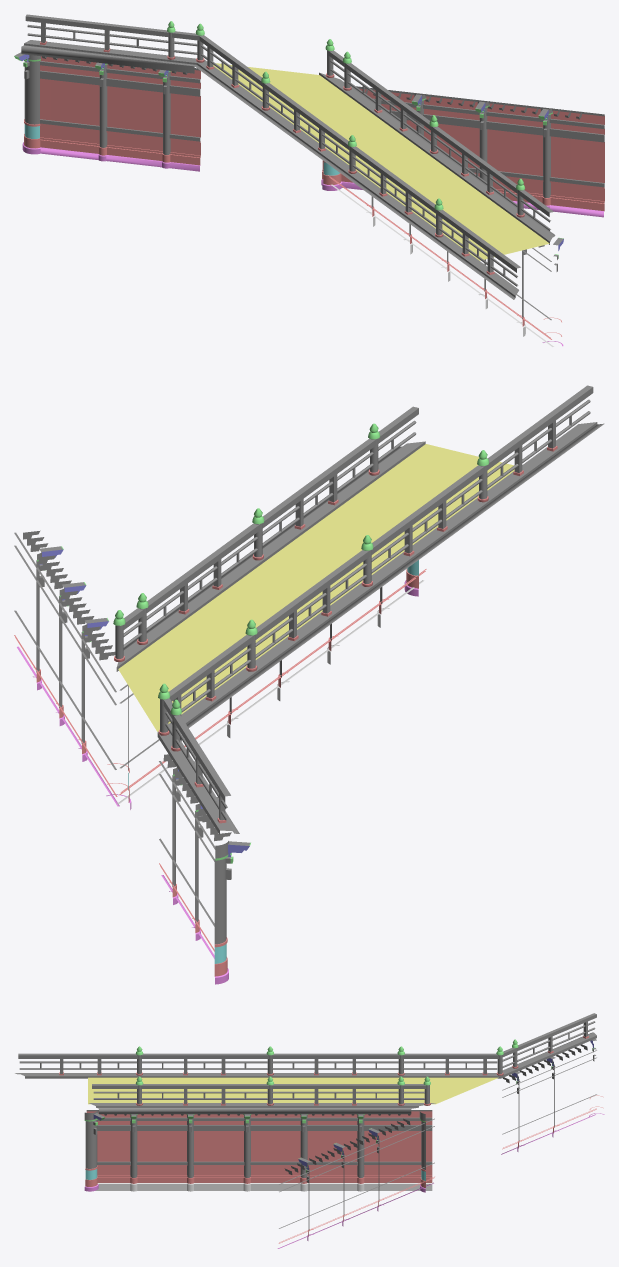
Rendered from SM_ENV_KNVLLG03_Bridge_ConnectorB.gltf.
3 views of the same model, one above another, from view 1: azimuth 30°, elevation 25°; view 2: azimuth 150°, elevation 25°; view 3: azimuth 270°, elevation 25° (orthographic). The views are drawn at different scales.
Parts seen in each view (by area): view 1: SM_ENV_KNVLLG03_Bridge_ConnectorB; view 2: SM_ENV_KNVLLG03_Bridge_ConnectorB; view 3: SM_ENV_KNVLLG03_Bridge_ConnectorB.
Part boxes in pixels (<box>): SM_ENV_KNVLLG03_Bridge_ConnectorB: <box>14,14,604,346</box>; SM_ENV_KNVLLG03_Bridge_ConnectorB: <box>14,385,604,984</box>; SM_ENV_KNVLLG03_Bridge_ConnectorB: <box>15,1013,604,1248</box>.
Bounding box in the file's own units: 22.06 × 8.33 × 38.95.
